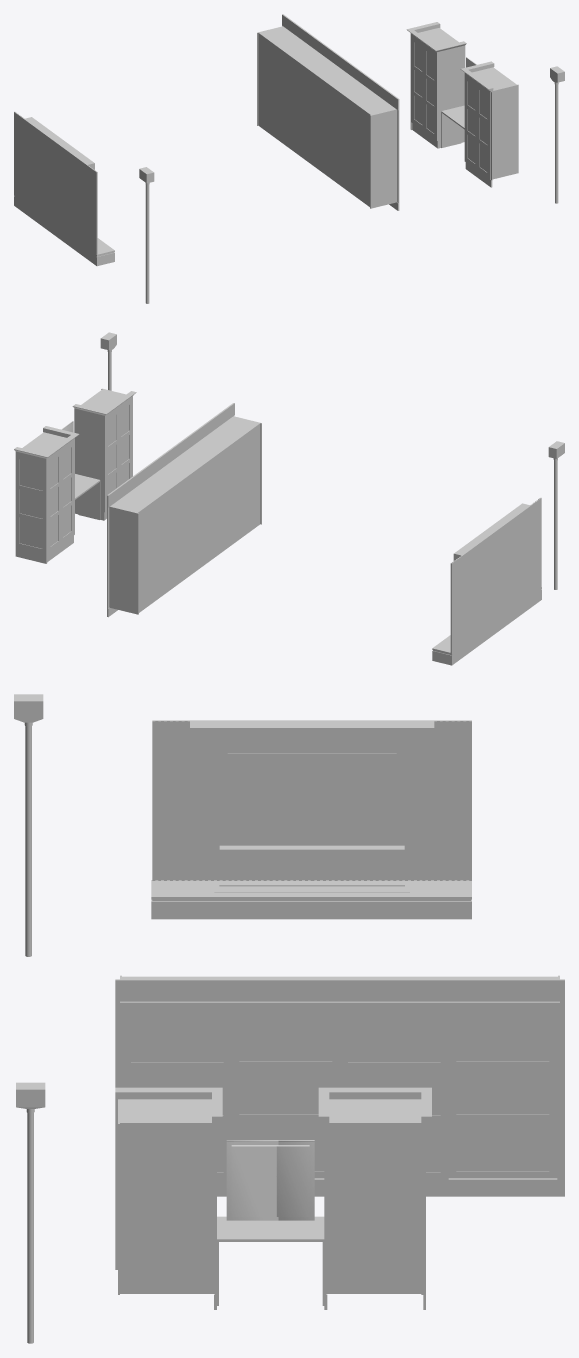
The model's file is PS01__TrueVision__MainBuildingModel__ProposedFixtures__MeshModel__.glb.
3 renders of one model, top to bottom at view 1: azimuth 30°, elevation 25°; view 2: azimuth 150°, elevation 25°; view 3: azimuth 270°, elevation 25°, orthographic. The views are drawn at different scales.
Visible parts, largest first — view 1: 27__ProposedBuilding__Fixtures::Default; view 2: 27__ProposedBuilding__Fixtures::Default; view 3: 27__ProposedBuilding__Fixtures::Default, 27__ProposedBuilding__Fixtures::MAT140__Mirror__ClearDefault.
Boxes of the visible parts, x1,y1,x2,y2 form: 27__ProposedBuilding__Fixtures::Default: (14,14,564,303); 27__ProposedBuilding__Fixtures::Default: (14,332,564,665); 27__ProposedBuilding__Fixtures::Default: (14,694,564,1343); 27__ProposedBuilding__Fixtures::MAT140__Mirror__ClearDefault: (226,1140,314,1220).
Size of the model in its own units: 9.9 by 2.9 by 5.64.
2 materials, 1 textured.
